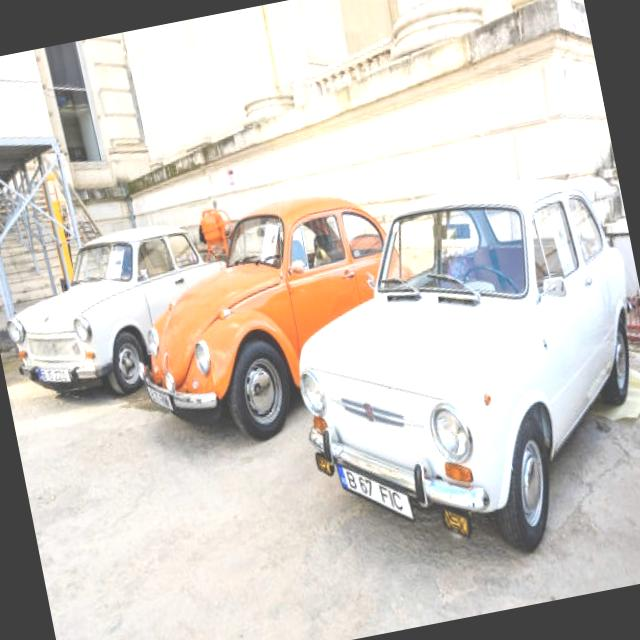car: (279, 167, 640, 553), (117, 172, 445, 444), (0, 205, 249, 413)
